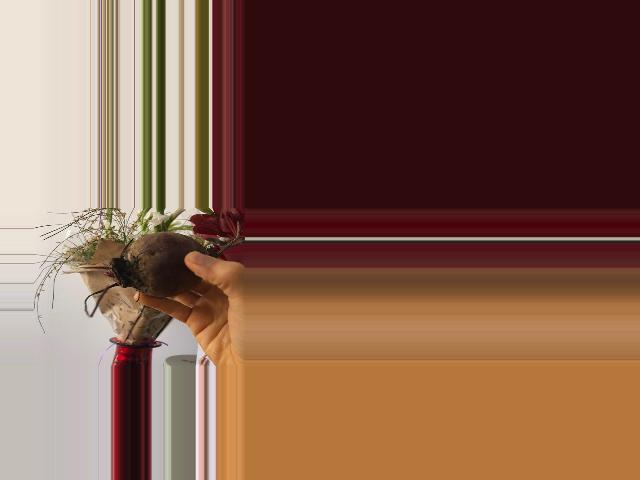beet: (83, 222, 239, 317)
